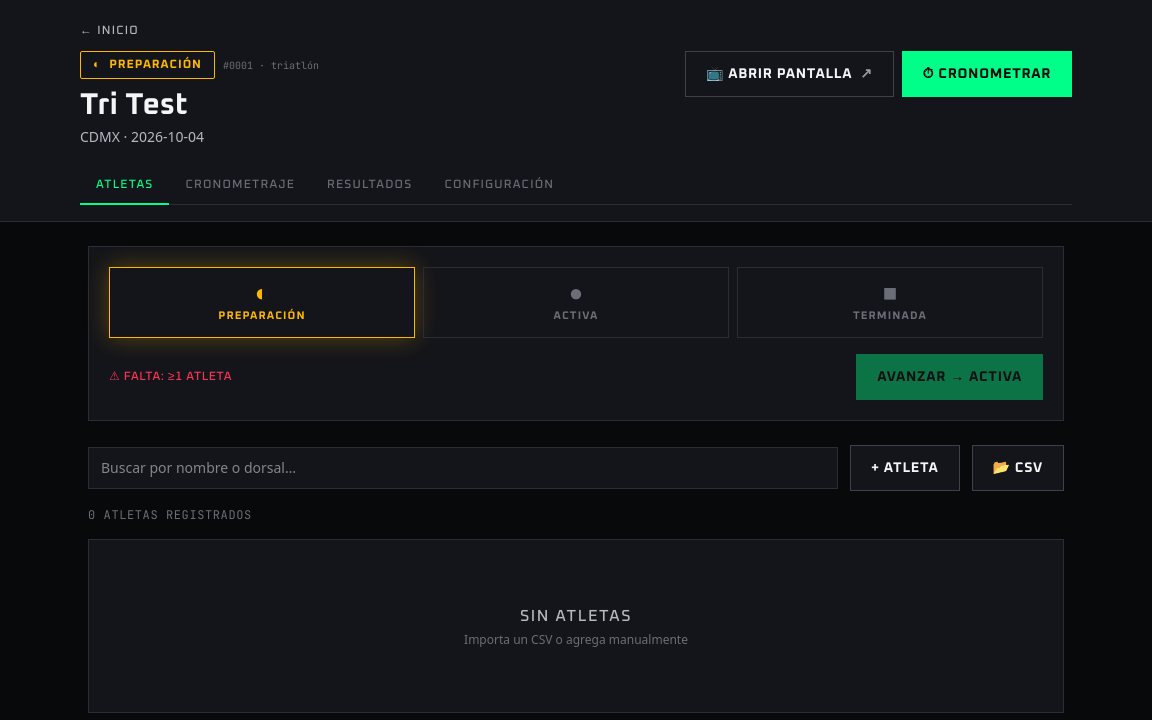
Test: DetalleEvento — distancia de cada atleta › offers the event distances in the athlete form
Click the button "+ Atleta": click(905, 468) x1=850 y1=444 x2=960 y2=490
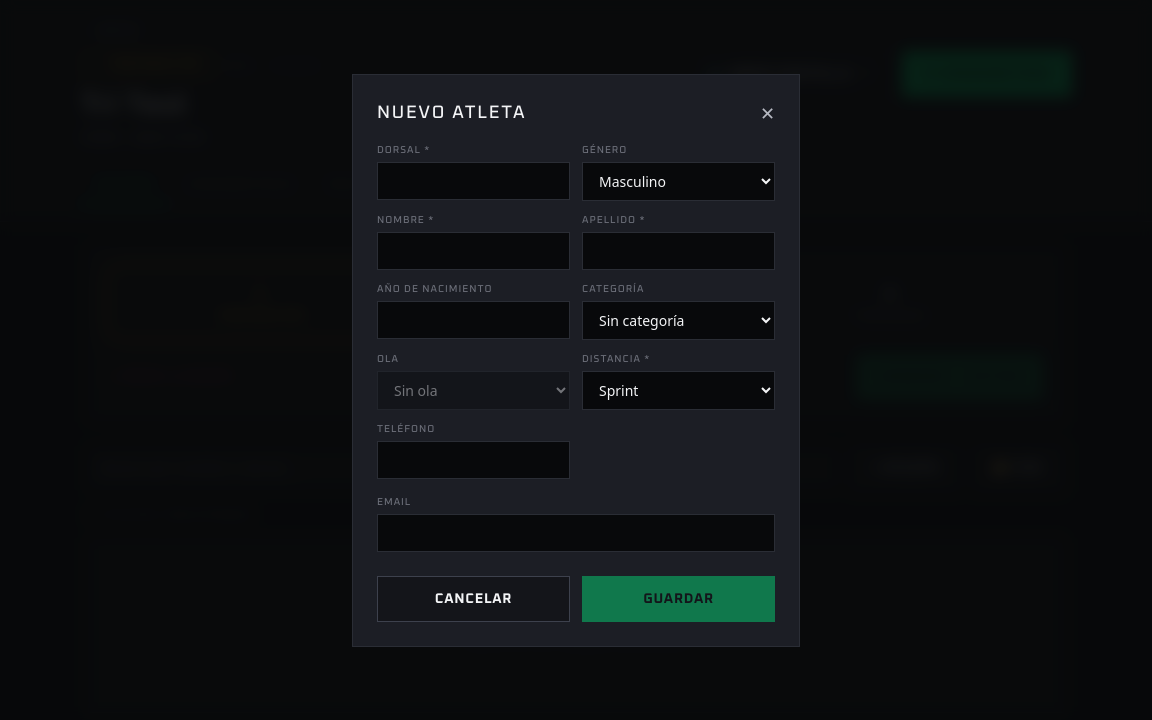
Expected: the dropdown labelled "Distancia *" shows "Sprint", x1=582 y1=370 x2=775 y2=410
